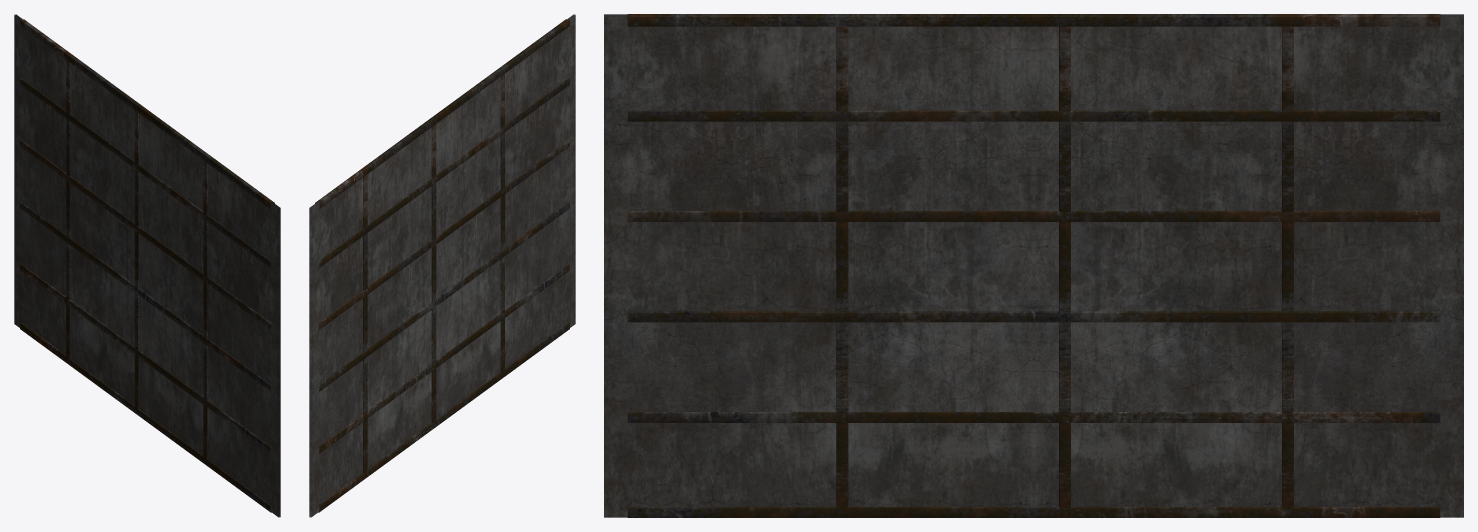
File: Basement_Corridor_A_Broken_Wall_Fence_4m.glb
3 renders of one model, left to right at view 1: azimuth 30°, elevation 25°; view 2: azimuth 150°, elevation 25°; view 3: azimuth 270°, elevation 25°, orthographic. The views are drawn at different scales.
Visible parts, largest first — view 1: Basement_Corridor_A_Broken_Wall_Fence_4m; view 2: Basement_Corridor_A_Broken_Wall_Fence_4m; view 3: Basement_Corridor_A_Broken_Wall_Fence_4m.
Boxes of the visible parts, bbox=[...] form: Basement_Corridor_A_Broken_Wall_Fence_4m: bbox=[14, 14, 280, 517]; Basement_Corridor_A_Broken_Wall_Fence_4m: bbox=[309, 14, 575, 517]; Basement_Corridor_A_Broken_Wall_Fence_4m: bbox=[604, 14, 1463, 517].
Size of the model in its own units: 0.0347 by 2.49 by 3.86.
Materials: 2 (2 with a texture image).
